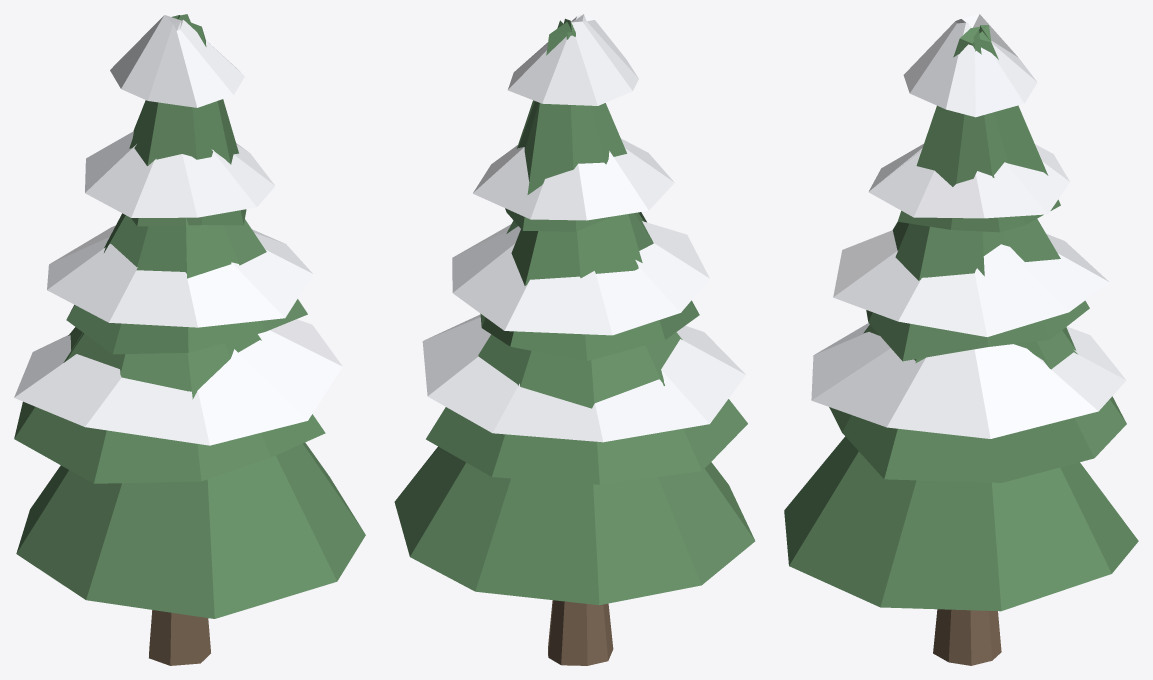
The model's file is pine_snow.glb.
3 views of the same model, side by side, from view 1: azimuth 30°, elevation 25°; view 2: azimuth 150°, elevation 25°; view 3: azimuth 270°, elevation 25° (orthographic).
Parts seen in each view (by area): view 1: trunk; view 2: trunk; view 3: trunk.
Boxes of the visible parts, x1,y1,x2,y2 form: trunk: (14, 14, 365, 665); trunk: (394, 14, 755, 665); trunk: (784, 14, 1138, 665).
Bounding box in the file's own units: 3.27 × 6.31 × 3.2.
